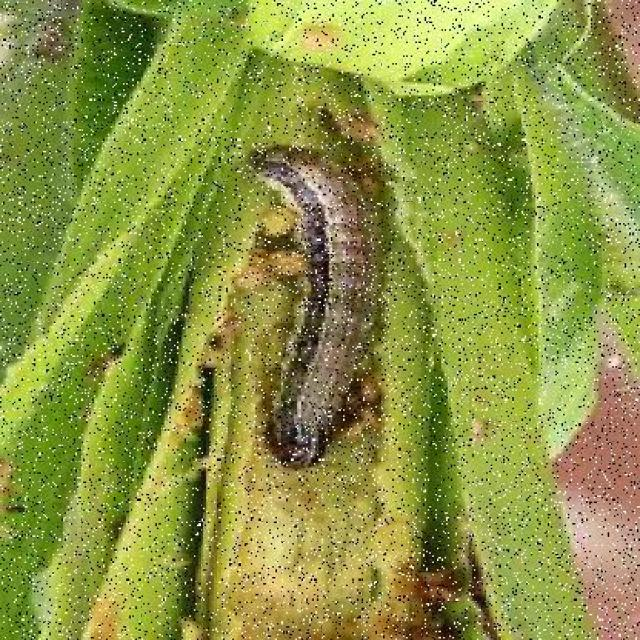Plaga: (221, 124, 406, 478)
